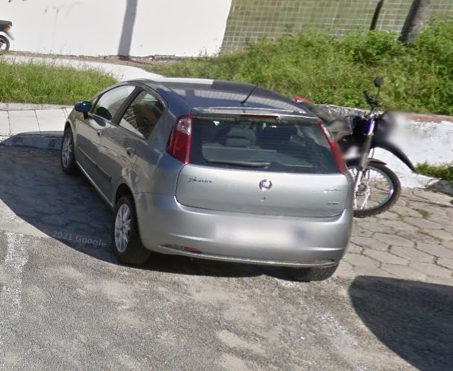car: (56, 71, 359, 292)
